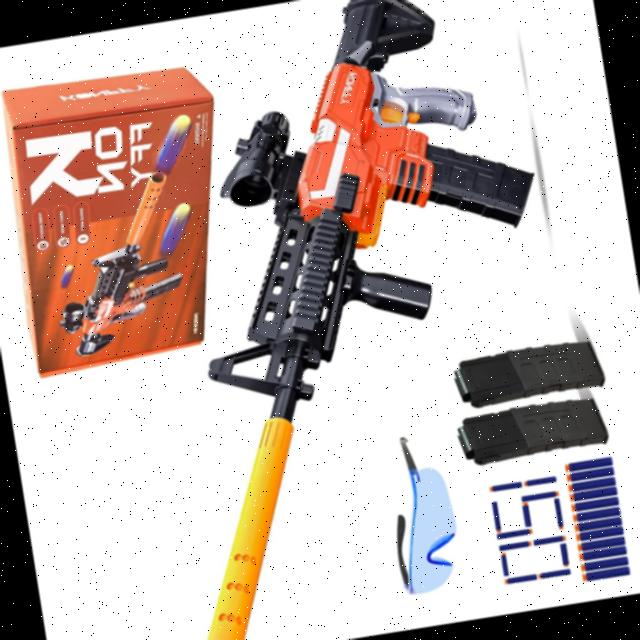Automaticrifle: (113, 0, 599, 640)
